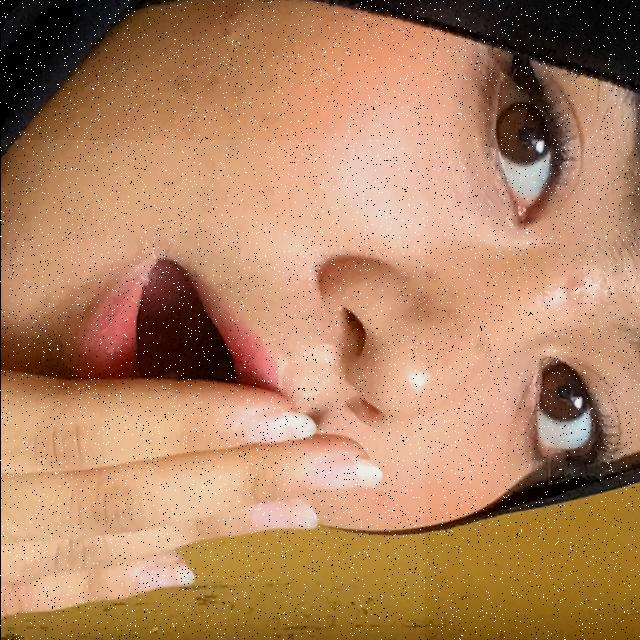ngantuk: (0, 140, 424, 640)
